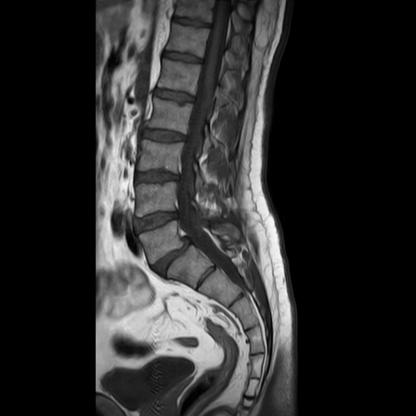Disc Bulgerotation: (133, 207, 182, 236), (152, 246, 200, 270), (136, 166, 182, 191)
